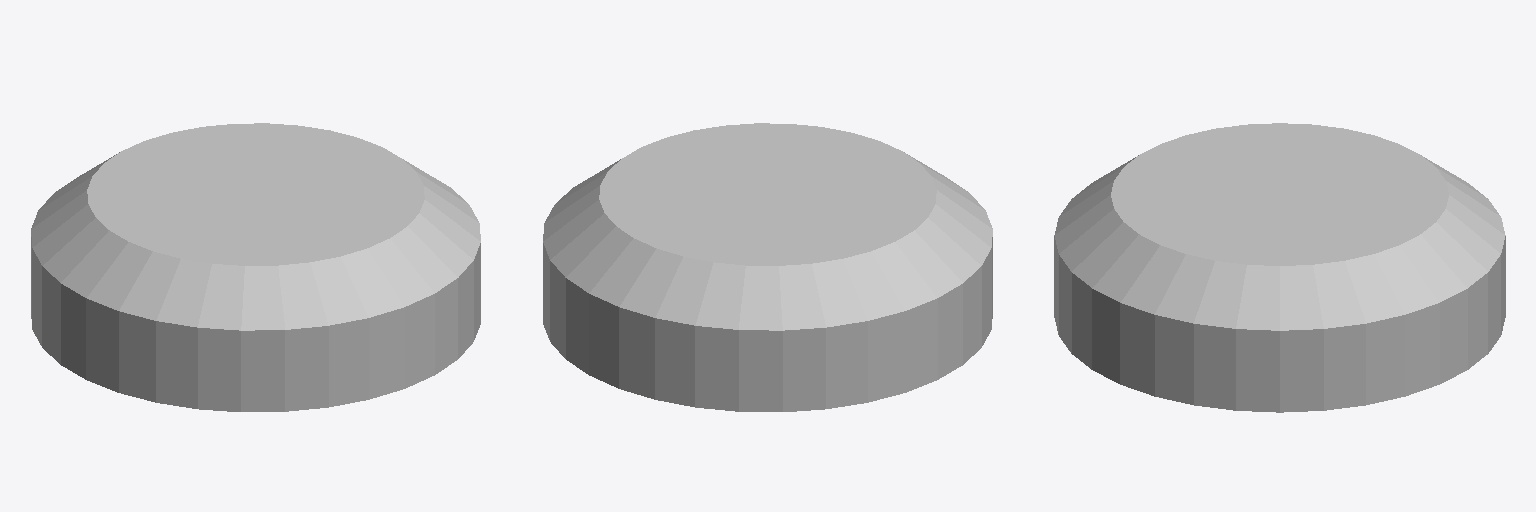
Rendered from TurretBase.obj.
The picture shows the model from 3 angles: view 1: azimuth 30°, elevation 25°; view 2: azimuth 150°, elevation 25°; view 3: azimuth 270°, elevation 25°; orthographic projection.
Parts seen in each view (by area): view 1: Turret.001_Turret; view 2: Turret.001_Turret; view 3: Turret.001_Turret.
Boxes of the visible parts, x1,y1,x2,y2 form: Turret.001_Turret: [31, 123, 480, 411]; Turret.001_Turret: [543, 123, 992, 411]; Turret.001_Turret: [1054, 123, 1505, 412].
Size of the model in its own units: 0.5 by 0.15 by 0.5.